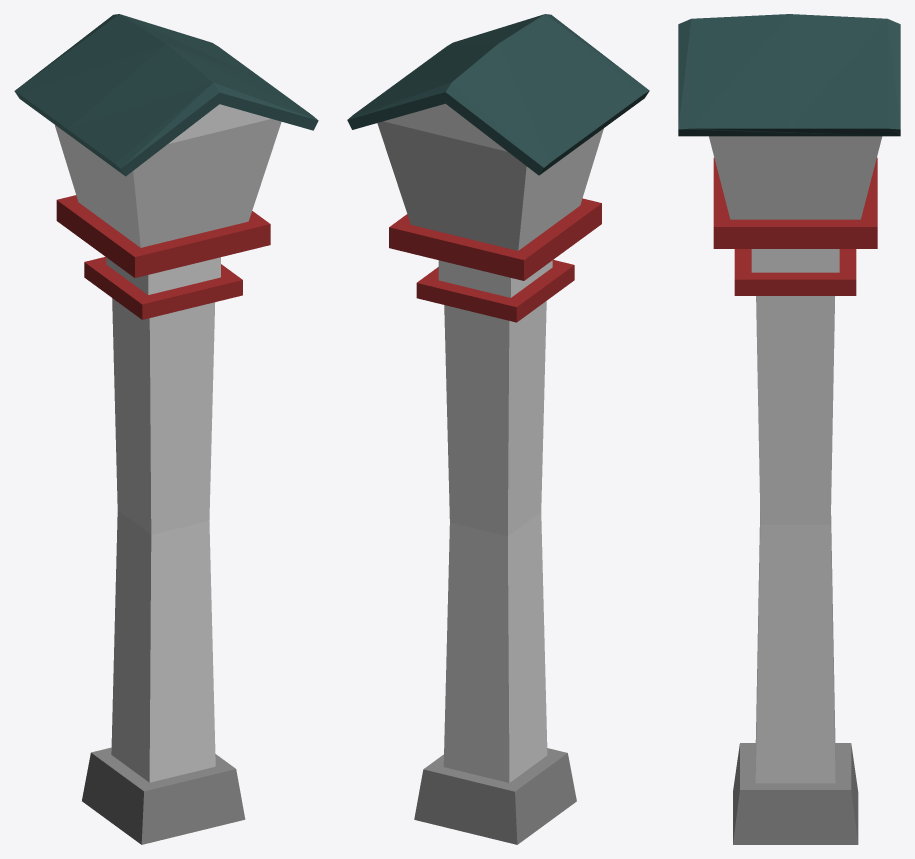
Rendered from Asian_Prop_Building_Lantern_Post_01.FBX.
The picture shows the model from 3 angles, left to right: view 1: azimuth 30°, elevation 25°; view 2: azimuth 150°, elevation 25°; view 3: azimuth 270°, elevation 25°; orthographic projection. The views are drawn at different scales.
Parts seen in each view (by area): view 1: Asian_Prop_Building_Lantern_Post_01; view 2: Asian_Prop_Building_Lantern_Post_01; view 3: Asian_Prop_Building_Lantern_Post_01.
Part boxes in pixels (x1,y1,x2,y2): Asian_Prop_Building_Lantern_Post_01: (14, 14, 318, 844); Asian_Prop_Building_Lantern_Post_01: (347, 14, 649, 844); Asian_Prop_Building_Lantern_Post_01: (678, 14, 900, 844).
Bounding box in the file's own units: 536 × 1989 × 499.
